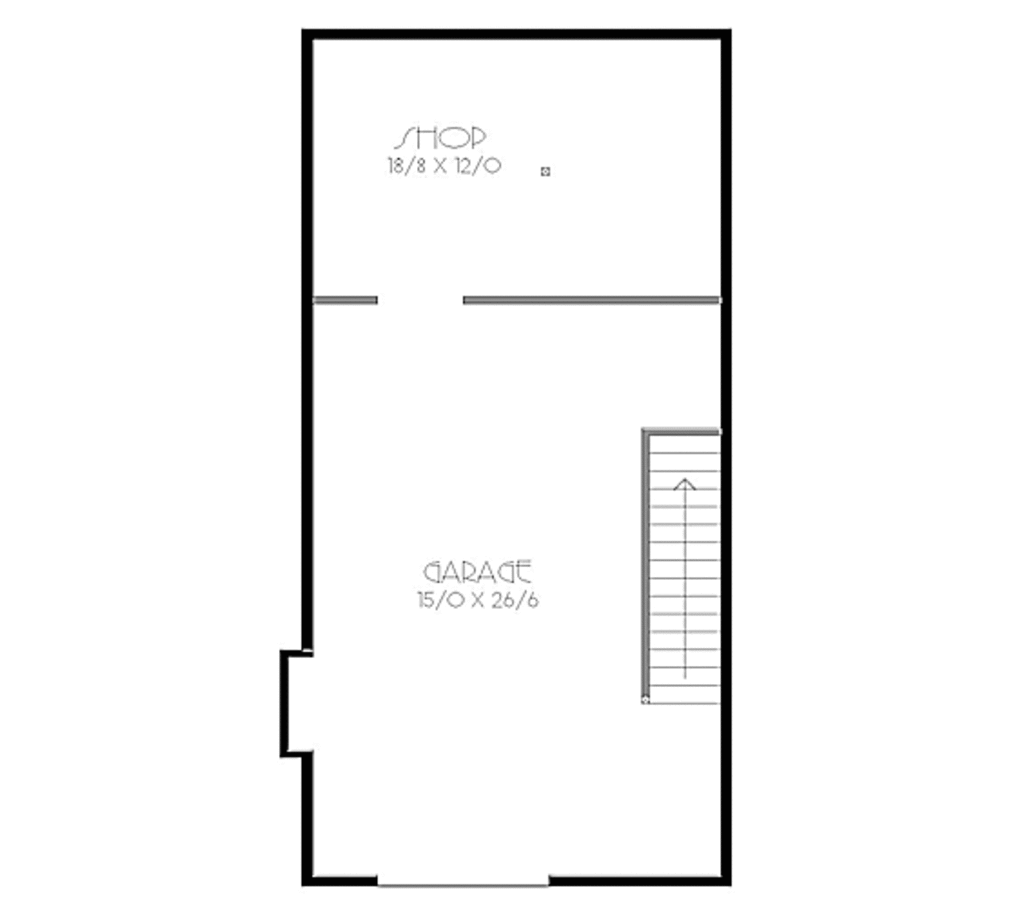stairs: (626, 411, 752, 723)
